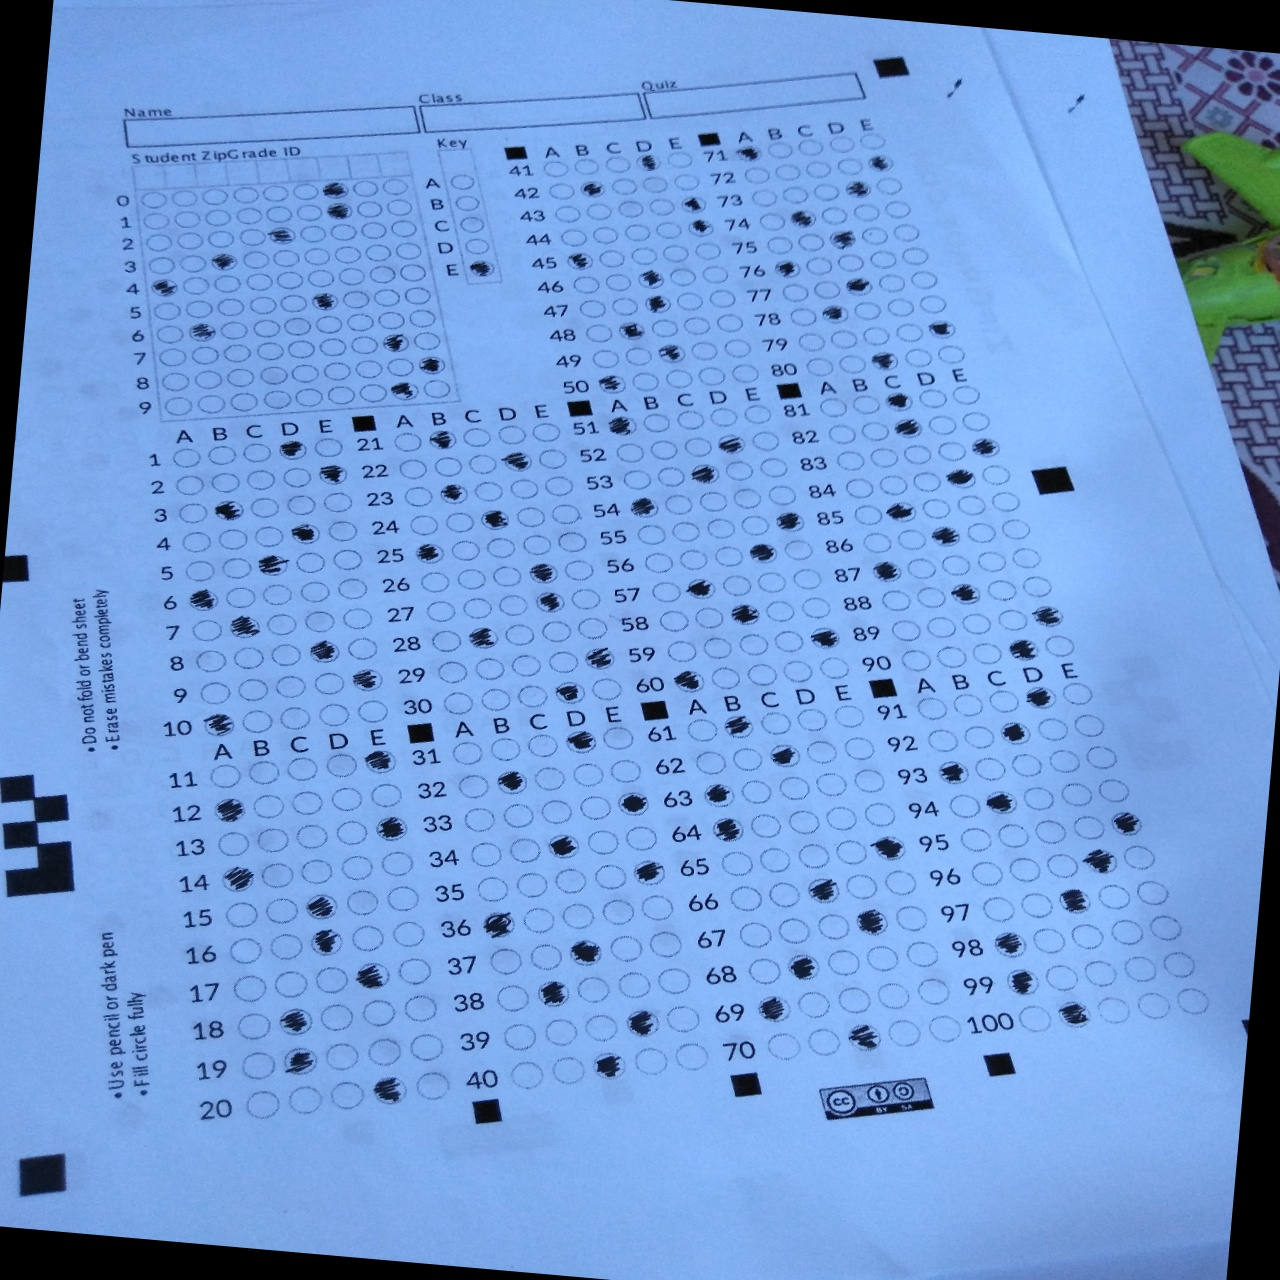not-c: (407, 1032, 447, 1065), (377, 849, 418, 881), (655, 965, 695, 998), (383, 883, 423, 915), (321, 1040, 361, 1073), (293, 821, 333, 853), (204, 761, 244, 794), (282, 754, 322, 787), (835, 983, 874, 1016), (542, 1016, 583, 1048), (358, 998, 399, 1029), (222, 899, 263, 931), (813, 912, 855, 944), (607, 932, 646, 965), (501, 1020, 539, 1053), (506, 1058, 545, 1091), (312, 964, 350, 996), (326, 783, 365, 816), (288, 787, 327, 819), (213, 828, 252, 860), (413, 1069, 452, 1101), (400, 993, 440, 1024), (395, 954, 435, 986), (318, 1002, 358, 1034), (366, 1037, 406, 1069), (243, 1089, 282, 1121), (225, 934, 265, 966), (297, 855, 336, 886), (1172, 985, 1212, 1016), (914, 976, 954, 1008), (901, 939, 941, 971), (823, 947, 863, 979), (842, 870, 881, 901), (268, 931, 306, 964), (646, 930, 685, 961), (614, 967, 653, 999), (573, 973, 612, 1005), (492, 983, 531, 1015), (663, 1003, 702, 1035), (673, 1041, 712, 1073), (632, 1046, 670, 1077), (388, 918, 427, 949), (338, 851, 376, 883), (240, 1050, 279, 1082), (271, 969, 309, 1001), (286, 1084, 325, 1116), (264, 896, 302, 927), (258, 860, 297, 892), (333, 818, 372, 850), (367, 781, 406, 812), (253, 825, 292, 857), (1121, 952, 1159, 983), (1081, 956, 1119, 988), (885, 1017, 924, 1049), (803, 1027, 842, 1058), (764, 1032, 803, 1063), (1133, 990, 1173, 1021), (1094, 994, 1133, 1024), (795, 989, 835, 1020), (863, 942, 903, 973), (744, 956, 784, 987), (583, 1013, 620, 1044), (549, 1054, 586, 1085), (343, 885, 381, 917), (349, 922, 387, 954), (245, 757, 282, 789), (324, 749, 361, 781), (926, 1013, 964, 1044), (874, 980, 912, 1012), (893, 903, 931, 934), (231, 974, 270, 1005), (1014, 1002, 1053, 1033), (775, 915, 813, 946), (883, 867, 921, 898), (328, 1080, 366, 1110), (234, 1010, 272, 1041), (248, 791, 286, 822), (1042, 962, 1080, 993), (736, 919, 774, 949), (531, 763, 567, 794), (607, 756, 644, 787), (639, 893, 675, 924), (488, 946, 524, 976), (1095, 883, 1132, 912), (851, 767, 888, 796), (831, 702, 869, 731), (515, 869, 549, 900), (501, 801, 536, 831), (488, 734, 523, 764), (525, 731, 560, 762), (539, 797, 574, 828), (592, 862, 627, 892), (586, 828, 621, 858), (600, 723, 635, 754), (601, 897, 636, 927), (522, 906, 557, 937), (570, 761, 606, 790), (969, 859, 1006, 888), (1017, 890, 1054, 919), (833, 838, 870, 867), (1069, 813, 1107, 842), (1005, 856, 1042, 884), (1108, 918, 1145, 946), (765, 880, 803, 908), (508, 835, 542, 865), (700, 633, 735, 662), (476, 874, 511, 904), (578, 794, 613, 823), (624, 824, 659, 853), (560, 900, 595, 930), (862, 799, 897, 829), (738, 777, 774, 806), (1033, 818, 1069, 846), (1020, 784, 1056, 812), (995, 823, 1032, 851), (958, 826, 994, 855), (1043, 851, 1080, 879), (1121, 843, 1157, 871), (1133, 878, 1170, 906), (1162, 949, 1198, 978), (728, 884, 764, 912), (720, 850, 756, 878), (757, 846, 794, 874), (823, 805, 859, 833), (785, 808, 822, 836), (748, 812, 784, 840), (840, 735, 877, 763), (730, 745, 767, 774), (693, 748, 729, 776), (757, 710, 794, 738), (795, 706, 831, 734), (979, 896, 1016, 922), (1069, 922, 1107, 949), (971, 639, 1005, 668), (554, 866, 588, 896), (527, 942, 563, 971), (1058, 779, 1094, 808), (1030, 927, 1065, 955), (813, 770, 849, 798), (685, 716, 720, 744), (1096, 776, 1132, 803), (947, 794, 983, 821), (1148, 914, 1184, 941), (796, 843, 832, 870), (776, 774, 812, 801), (803, 738, 839, 765), (899, 646, 933, 674), (935, 644, 969, 672), (816, 654, 850, 682), (745, 661, 779, 689), (708, 663, 742, 692), (736, 631, 770, 659), (665, 636, 699, 665), (430, 452, 464, 481), (535, 445, 568, 474), (220, 554, 254, 583), (470, 840, 504, 869), (1071, 712, 1107, 738), (914, 694, 949, 721), (1009, 753, 1044, 779), (1046, 747, 1081, 774), (1084, 743, 1119, 770), (1034, 716, 1070, 742), (924, 727, 960, 753), (781, 659, 815, 686), (771, 628, 805, 655), (658, 610, 692, 636), (799, 595, 833, 622), (791, 566, 825, 593), (782, 536, 816, 563), (719, 572, 753, 599), (641, 550, 675, 577), (676, 547, 710, 574), (704, 516, 738, 543), (764, 482, 798, 509), (738, 512, 772, 539), (670, 517, 704, 544), (634, 522, 668, 549), (619, 467, 653, 493), (613, 440, 647, 467), (646, 436, 680, 463), (680, 434, 714, 461), (748, 429, 782, 456), (757, 454, 791, 481), (741, 401, 775, 428), (707, 403, 741, 430), (673, 406, 707, 433), (640, 408, 674, 435), (530, 418, 564, 445), (396, 455, 430, 482), (465, 451, 499, 478), (542, 474, 576, 501), (508, 476, 542, 503), (472, 478, 506, 505), (402, 483, 436, 510), (406, 512, 440, 539), (554, 527, 588, 554), (520, 531, 554, 558), (483, 535, 517, 561), (448, 536, 482, 563), (418, 568, 452, 595), (459, 594, 493, 621), (478, 685, 512, 712), (515, 683, 549, 710), (509, 653, 543, 680), (503, 622, 537, 649), (495, 593, 529, 620), (490, 563, 524, 590), (561, 557, 595, 584), (591, 676, 625, 703), (547, 649, 581, 676), (539, 618, 573, 645), (430, 628, 464, 655), (423, 598, 457, 625), (434, 658, 468, 685), (442, 690, 476, 717), (356, 699, 390, 726), (316, 702, 350, 729), (312, 670, 346, 697), (278, 706, 312, 733), (234, 676, 268, 703), (273, 673, 307, 700), (268, 644, 302, 670), (195, 647, 229, 674), (198, 681, 232, 708), (346, 636, 380, 663), (340, 605, 374, 632), (265, 611, 299, 638), (192, 618, 226, 645), (260, 583, 294, 610), (297, 579, 331, 606), (335, 576, 369, 602), (332, 546, 366, 573), (184, 557, 218, 584), (176, 499, 210, 526), (173, 472, 207, 499), (168, 444, 202, 471), (207, 470, 241, 497), (247, 495, 281, 522), (243, 467, 277, 493), (278, 463, 312, 490), (321, 488, 355, 515), (326, 518, 360, 545), (463, 806, 497, 833), (986, 688, 1021, 714), (951, 692, 986, 717), (961, 726, 998, 750), (842, 474, 874, 501), (926, 413, 959, 440), (917, 384, 949, 411), (755, 568, 788, 595), (713, 544, 745, 571), (252, 524, 285, 551), (313, 435, 346, 462), (450, 738, 483, 765), (692, 604, 726, 629), (763, 599, 797, 625), (649, 580, 683, 606), (696, 489, 730, 515), (722, 459, 756, 485), (731, 486, 765, 512), (662, 491, 696, 517), (653, 464, 687, 490), (493, 422, 527, 448), (459, 424, 493, 450), (390, 429, 424, 455), (443, 510, 477, 536), (513, 505, 547, 531), (549, 502, 583, 527), (454, 566, 488, 592), (474, 656, 508, 682), (568, 586, 602, 612), (576, 617, 610, 642), (240, 709, 274, 735), (232, 646, 266, 672), (302, 610, 336, 635), (224, 584, 258, 610), (294, 550, 328, 576), (181, 529, 215, 554), (215, 526, 248, 552), (240, 440, 274, 465), (284, 492, 318, 518), (457, 772, 491, 798), (971, 757, 1006, 782), (858, 418, 890, 445), (999, 516, 1032, 542), (904, 554, 937, 580), (877, 472, 910, 498), (901, 442, 934, 468), (825, 420, 858, 445), (1043, 632, 1076, 658), (890, 617, 922, 642), (205, 442, 238, 468), (1060, 681, 1092, 707), (345, 311, 376, 336), (920, 496, 952, 522), (911, 470, 942, 496), (835, 448, 866, 474), (869, 445, 900, 471), (937, 440, 968, 465), (850, 393, 881, 418), (880, 587, 912, 613), (925, 614, 956, 640), (961, 612, 993, 638), (998, 607, 1029, 633), (588, 224, 621, 248), (903, 346, 935, 370), (951, 382, 983, 407), (960, 409, 993, 434), (1009, 545, 1042, 570), (1020, 574, 1053, 599), (985, 578, 1017, 602), (896, 527, 928, 552), (965, 520, 998, 545), (955, 493, 988, 518), (851, 298, 881, 324), (321, 359, 353, 383), (353, 358, 384, 382), (372, 285, 403, 309), (621, 222, 653, 246), (714, 311, 745, 335), (647, 195, 679, 219), (571, 155, 602, 179), (837, 350, 869, 375), (804, 353, 836, 377), (989, 490, 1021, 515), (975, 549, 1007, 573), (852, 503, 884, 527), (817, 395, 849, 420), (915, 585, 947, 610), (602, 272, 635, 295), (980, 463, 1013, 486), (860, 531, 893, 554), (336, 265, 367, 290), (178, 251, 209, 275), (375, 308, 407, 332), (244, 270, 275, 293), (278, 292, 309, 315), (293, 386, 325, 409), (196, 393, 227, 416), (648, 316, 680, 340), (686, 217, 717, 240), (660, 241, 692, 265), (692, 239, 723, 263), (670, 171, 702, 195), (917, 292, 948, 315), (940, 554, 972, 578), (578, 178, 610, 202), (305, 267, 338, 290), (699, 264, 731, 286), (779, 282, 812, 305), (828, 328, 860, 350), (935, 342, 968, 365), (679, 195, 712, 217), (689, 339, 719, 363), (615, 197, 645, 222), (144, 231, 175, 254), (402, 284, 433, 307), (349, 334, 380, 358), (302, 245, 333, 268), (275, 268, 306, 292), (184, 298, 215, 321), (152, 299, 183, 322), (218, 318, 248, 341), (313, 313, 343, 336), (256, 339, 286, 362), (157, 346, 188, 369), (193, 368, 224, 392), (229, 390, 259, 414), (462, 234, 492, 258), (722, 338, 753, 361), (610, 295, 640, 319), (667, 266, 697, 290), (640, 173, 670, 197), (608, 176, 639, 199), (900, 245, 931, 268), (908, 268, 939, 292), (173, 230, 205, 252), (393, 240, 424, 263), (421, 377, 452, 400), (366, 263, 397, 285), (333, 244, 365, 266), (271, 247, 302, 270), (155, 324, 186, 346), (250, 316, 281, 339), (316, 335, 348, 358), (190, 343, 222, 366), (159, 370, 191, 393), (571, 273, 602, 295), (653, 219, 685, 241), (706, 288, 737, 311), (674, 290, 706, 312), (583, 200, 614, 223), (867, 248, 899, 271), (835, 252, 866, 274), (789, 305, 821, 327), (884, 297, 915, 319), (876, 272, 907, 294), (213, 272, 243, 295), (263, 388, 292, 411), (629, 245, 659, 268), (836, 155, 865, 178), (796, 232, 825, 256), (862, 324, 891, 347), (237, 226, 267, 248), (298, 223, 328, 245), (388, 217, 418, 239), (341, 290, 372, 312), (363, 241, 394, 264), (240, 248, 271, 271), (181, 274, 211, 297), (215, 297, 245, 319), (281, 315, 312, 338), (286, 338, 316, 360), (222, 342, 252, 365), (225, 366, 256, 388), (290, 362, 320, 384), (163, 396, 193, 418), (591, 348, 621, 370), (629, 370, 660, 393), (663, 368, 694, 390), (681, 315, 712, 338), (797, 331, 828, 353), (894, 321, 925, 343), (633, 151, 663, 173), (595, 247, 626, 270), (406, 308, 437, 329), (384, 356, 416, 377), (326, 384, 358, 406), (147, 254, 178, 275), (803, 256, 835, 277), (384, 197, 414, 219), (350, 178, 380, 200), (578, 297, 607, 319), (696, 365, 726, 387), (857, 130, 886, 152), (804, 158, 833, 181), (743, 165, 772, 188), (294, 202, 325, 223), (234, 205, 265, 226), (203, 207, 233, 229), (358, 220, 388, 241), (354, 199, 384, 220), (380, 177, 410, 198), (411, 331, 442, 352), (358, 383, 388, 404), (246, 295, 277, 316), (258, 365, 288, 386), (447, 171, 477, 192), (546, 181, 577, 202), (552, 204, 583, 225), (558, 227, 588, 248), (584, 324, 614, 345), (622, 346, 653, 367), (663, 149, 694, 170), (811, 279, 842, 300), (781, 184, 809, 206), (813, 181, 842, 203), (874, 175, 903, 197), (853, 200, 881, 223), (860, 225, 888, 247), (892, 222, 920, 244), (205, 229, 234, 250), (328, 222, 358, 243), (452, 193, 482, 215), (542, 159, 571, 181), (730, 363, 760, 384), (750, 188, 779, 209), (883, 199, 912, 220), (757, 211, 787, 232), (168, 189, 198, 209), (199, 188, 230, 207), (232, 185, 263, 205), (290, 182, 320, 202), (142, 211, 172, 231), (261, 183, 290, 204), (604, 154, 632, 175), (765, 139, 794, 161), (796, 136, 824, 157), (828, 135, 856, 156), (772, 162, 801, 183), (819, 205, 847, 226), (765, 234, 794, 256), (139, 190, 169, 210), (265, 204, 294, 224), (173, 210, 203, 230), (399, 263, 428, 282), (457, 215, 486, 234)
taken-c: (588, 1048, 629, 1084), (275, 1005, 316, 1039), (535, 978, 576, 1012), (565, 937, 606, 971), (369, 1073, 409, 1107), (622, 1007, 662, 1041), (479, 908, 519, 942), (753, 992, 794, 1024), (1107, 806, 1148, 839), (281, 1043, 320, 1077), (804, 874, 843, 908), (784, 949, 823, 982), (844, 1022, 883, 1055), (1054, 998, 1092, 1030), (852, 907, 892, 939), (1003, 966, 1043, 998), (1082, 847, 1122, 879), (308, 925, 345, 959), (354, 960, 392, 993), (631, 857, 669, 888), (561, 727, 600, 758), (551, 679, 590, 710), (990, 930, 1029, 961), (1055, 884, 1094, 915), (493, 767, 531, 798), (701, 779, 738, 811), (302, 892, 341, 922), (614, 790, 653, 821), (464, 624, 503, 654), (374, 815, 411, 845), (545, 831, 583, 862), (870, 833, 907, 864), (220, 863, 257, 893), (709, 813, 745, 844), (583, 644, 620, 673), (211, 795, 247, 824), (935, 758, 972, 788), (925, 524, 962, 552), (881, 499, 919, 527), (768, 742, 803, 771), (982, 788, 1017, 817), (1024, 682, 1060, 712), (1007, 635, 1043, 663), (867, 557, 904, 585), (942, 467, 980, 493), (526, 560, 561, 588), (670, 667, 706, 695), (721, 713, 756, 741), (948, 581, 983, 610), (967, 435, 1003, 462), (881, 389, 918, 416), (533, 588, 567, 617), (413, 539, 447, 567), (437, 481, 471, 509), (501, 448, 535, 476), (428, 427, 462, 455), (605, 411, 639, 440), (476, 508, 511, 535), (996, 719, 1032, 745), (1032, 602, 1067, 629), (892, 415, 927, 442), (288, 520, 322, 547), (229, 614, 263, 641), (306, 639, 340, 666), (349, 667, 383, 694), (202, 712, 236, 738), (714, 430, 748, 457), (595, 372, 629, 399), (685, 576, 719, 602), (627, 493, 660, 520), (213, 498, 247, 524), (256, 552, 290, 578), (188, 587, 222, 613), (365, 748, 399, 774), (654, 341, 688, 367), (688, 461, 722, 486), (772, 509, 806, 535), (747, 540, 781, 566), (808, 625, 842, 651), (769, 257, 803, 282), (563, 248, 595, 274), (614, 319, 648, 343), (728, 601, 762, 626), (867, 349, 901, 374), (924, 316, 958, 341), (818, 302, 852, 327), (840, 274, 874, 299), (840, 177, 874, 202), (316, 462, 349, 486), (785, 207, 819, 231), (389, 379, 421, 403), (640, 292, 672, 316), (635, 268, 667, 293), (865, 151, 897, 176), (733, 141, 764, 165), (379, 331, 411, 354), (561, 248, 594, 272), (826, 227, 859, 251), (209, 250, 239, 274), (415, 353, 447, 376), (275, 438, 308, 461), (467, 257, 497, 280), (309, 290, 340, 313), (267, 224, 297, 247), (325, 199, 355, 222), (151, 275, 181, 298), (188, 321, 217, 343), (320, 179, 350, 200)
